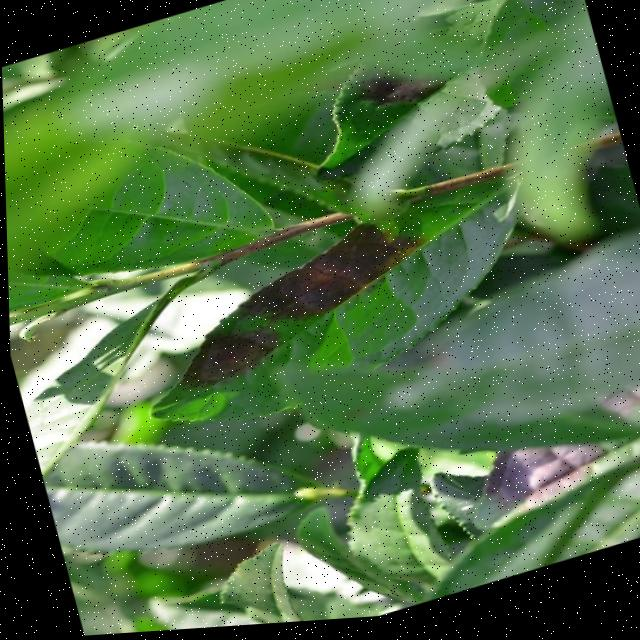Tea exobasidium blight: (218, 216, 410, 340), (170, 315, 277, 402)
